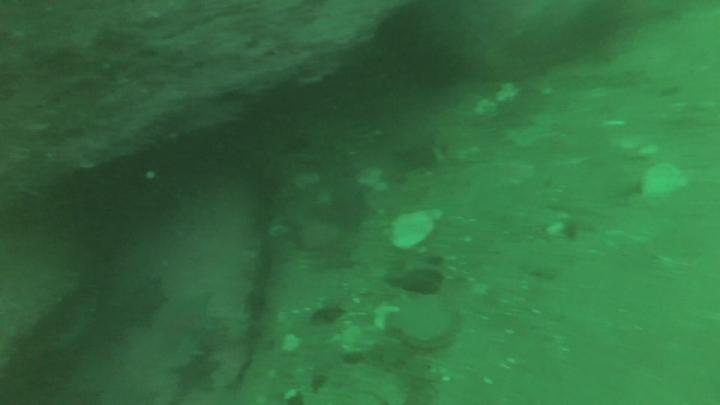scallop: (398, 295, 456, 352), (390, 212, 437, 252)
